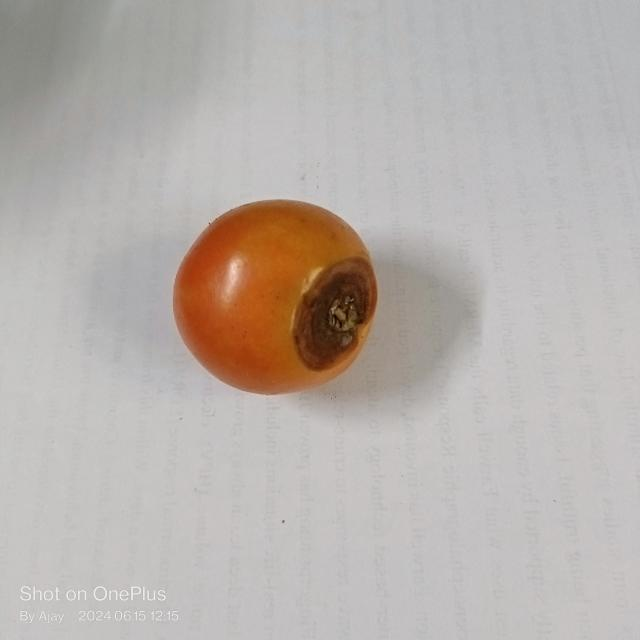Anthrocnose: (290, 252, 369, 375)
